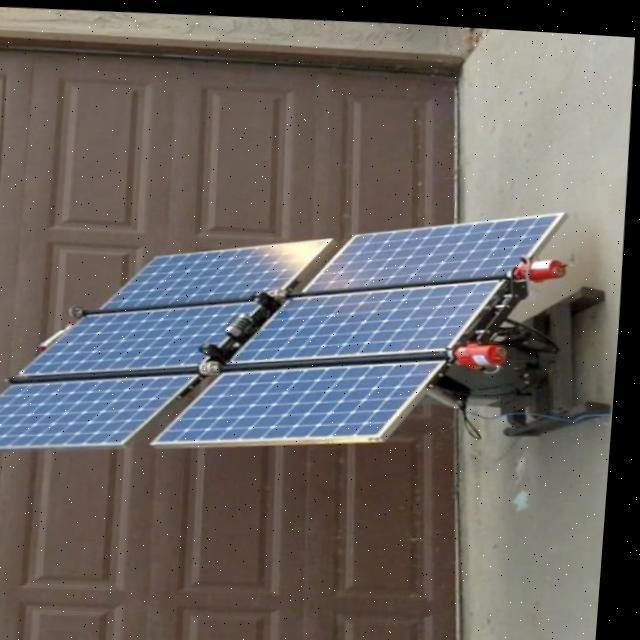Normal Solar Panel: (156, 342, 450, 454), (234, 260, 506, 370), (306, 193, 570, 295), (25, 287, 261, 384), (104, 223, 336, 316), (0, 362, 202, 458)
